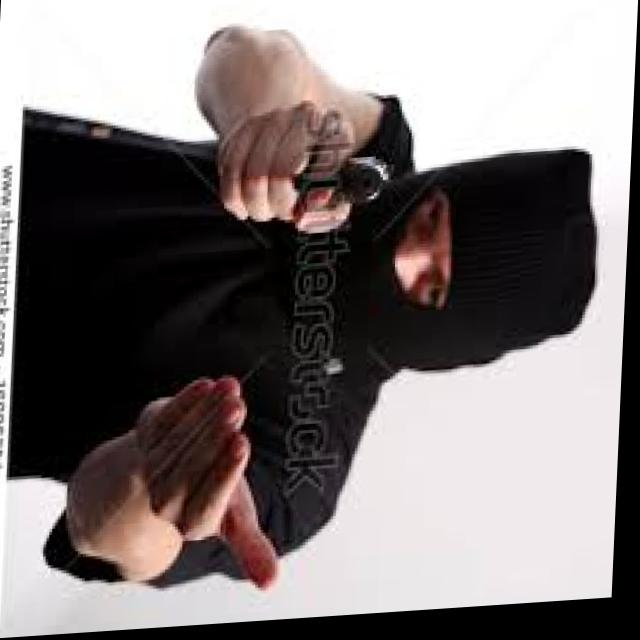handgun: (276, 145, 401, 216)
